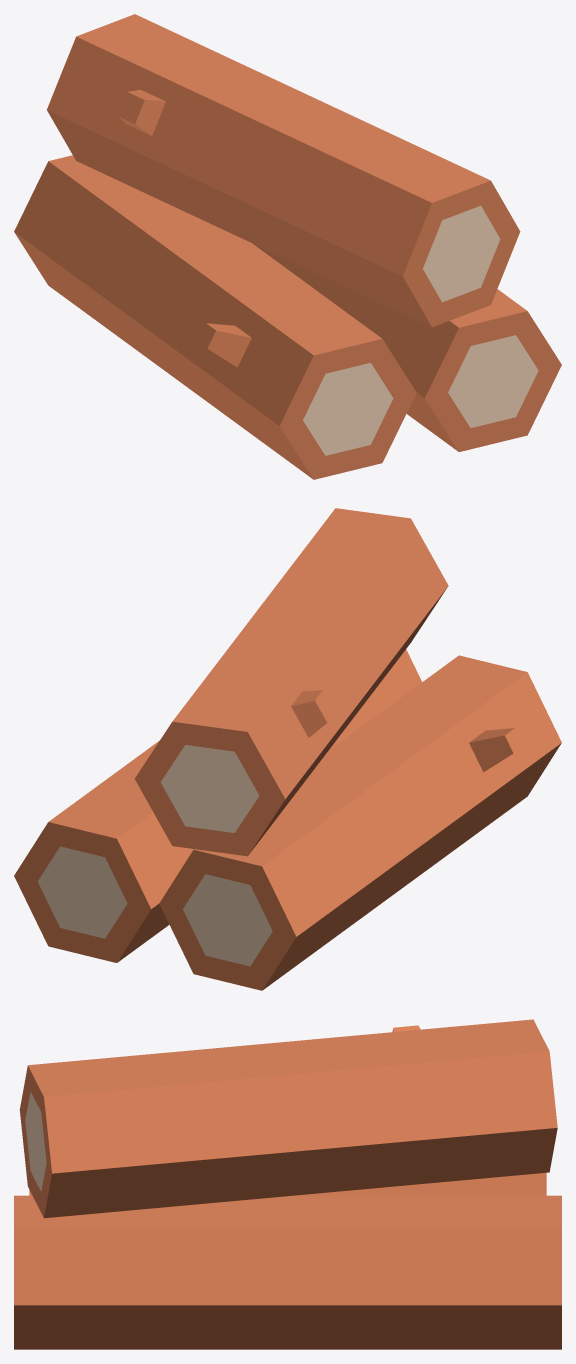
3 renders of one model, top to bottom at view 1: azimuth 30°, elevation 25°; view 2: azimuth 150°, elevation 25°; view 3: azimuth 270°, elevation 25°, orthographic. The views are drawn at different scales.
Visible parts, largest first — view 1: log_stack; view 2: log_stack; view 3: log_stack.
Boxes of the visible parts, x1,y1,x2,y2 form: log_stack: (14,14,561,479); log_stack: (14,508,561,990); log_stack: (14,1019,561,1349).
Bounding box in the file's own units: 0.4247 × 0.3464 × 0.71.
